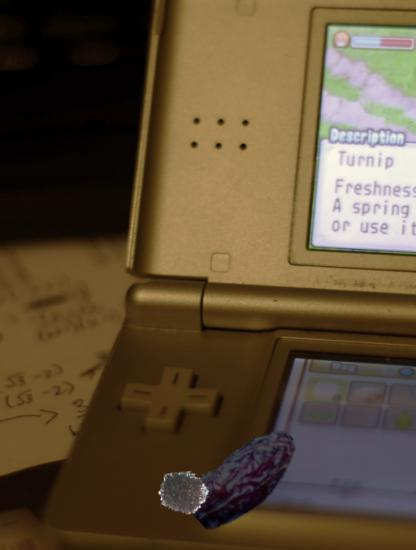Dates: (182, 416, 308, 542)
Rambutan: (158, 467, 211, 520)
